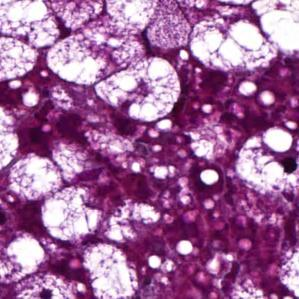ballooning: (92, 55, 182, 123), (188, 16, 279, 78), (234, 125, 299, 199)
